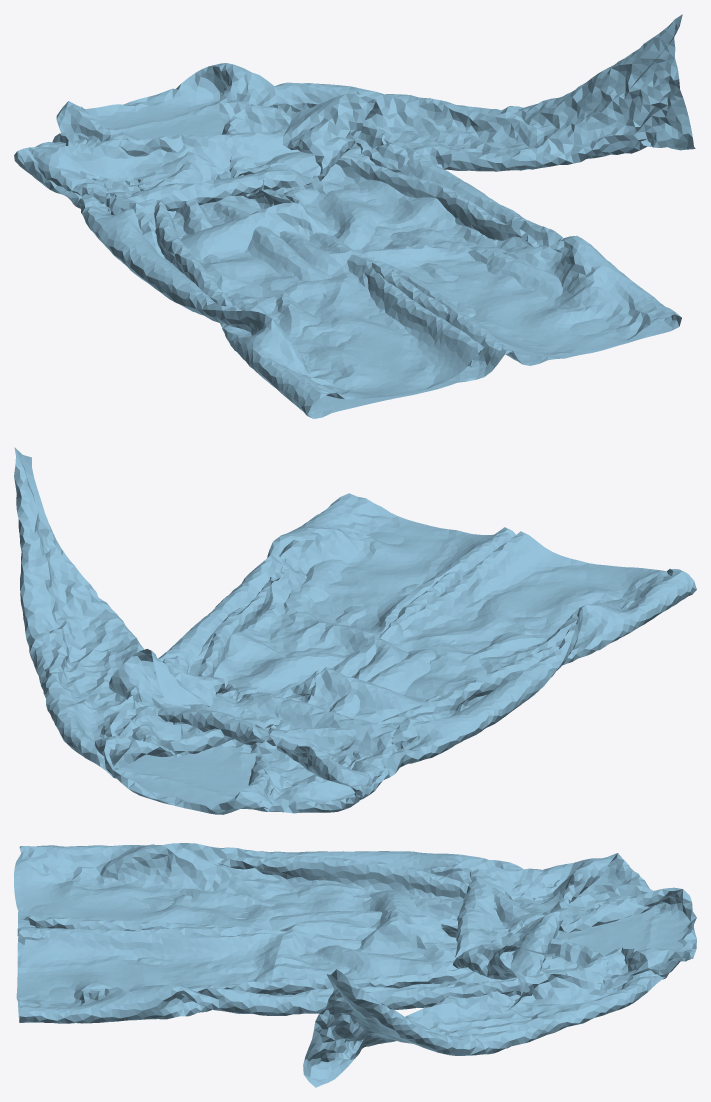
Rendered from frame_03.glb.
The picture shows the model from 3 angles, top to bottom: view 1: azimuth 30°, elevation 25°; view 2: azimuth 150°, elevation 25°; view 3: azimuth 270°, elevation 25°; orthographic projection. The views are drawn at different scales.
Parts seen in each view (by area): view 1: frame_03.obj; view 2: frame_03.obj; view 3: frame_03.obj.
Boxes of the visible parts, box(x1,y1,x2,y2) form: frame_03.obj: box(14, 14, 695, 418); frame_03.obj: box(14, 447, 696, 814); frame_03.obj: box(14, 843, 696, 1087).
Bounding box in the file's own units: 1.41 × 0.3662 × 1.65.
